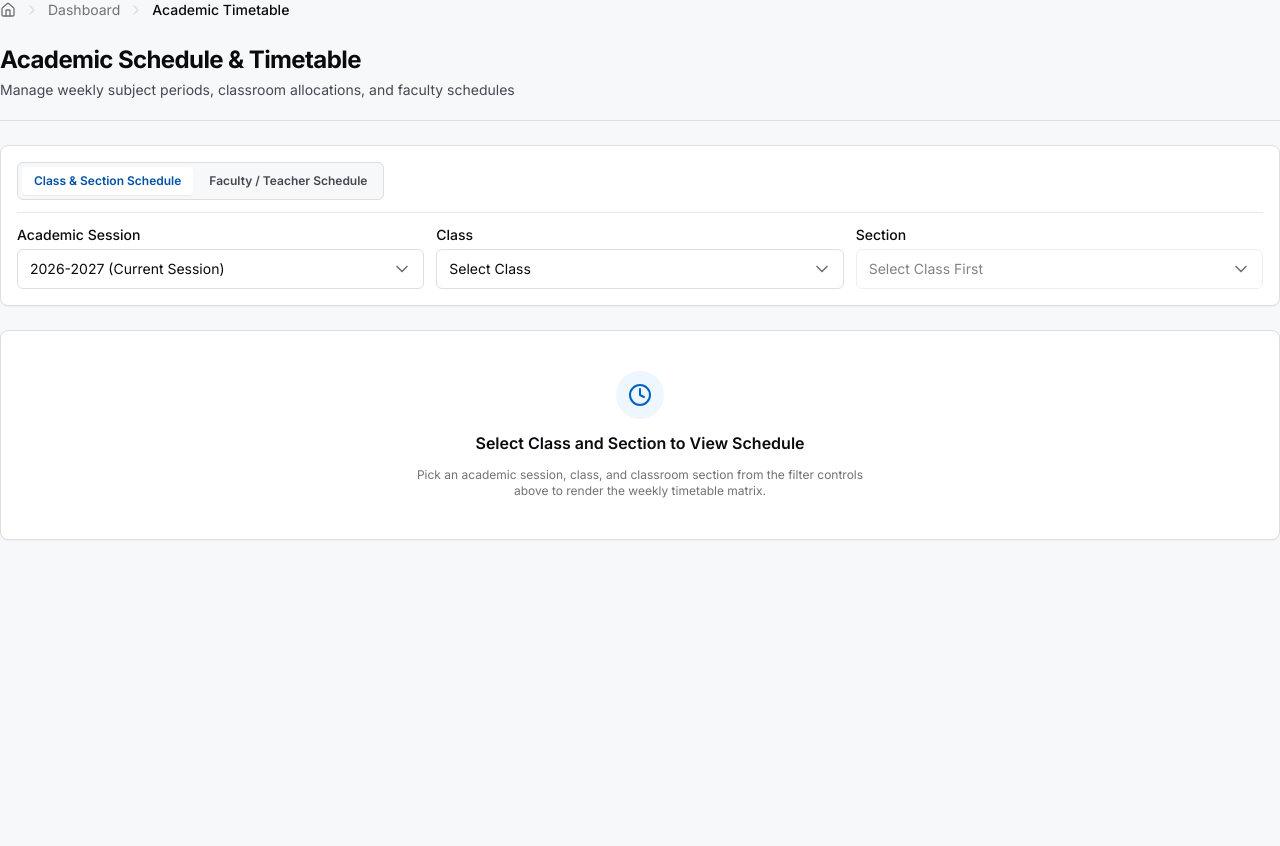
Test: TimetablePage › should render weekly timetable grid when class and section are selected
Note: Select Class
Select "Grade 10" in the dropdown labelled "Class" at point(640, 269), box x1=436 y1=249 x2=844 y2=289
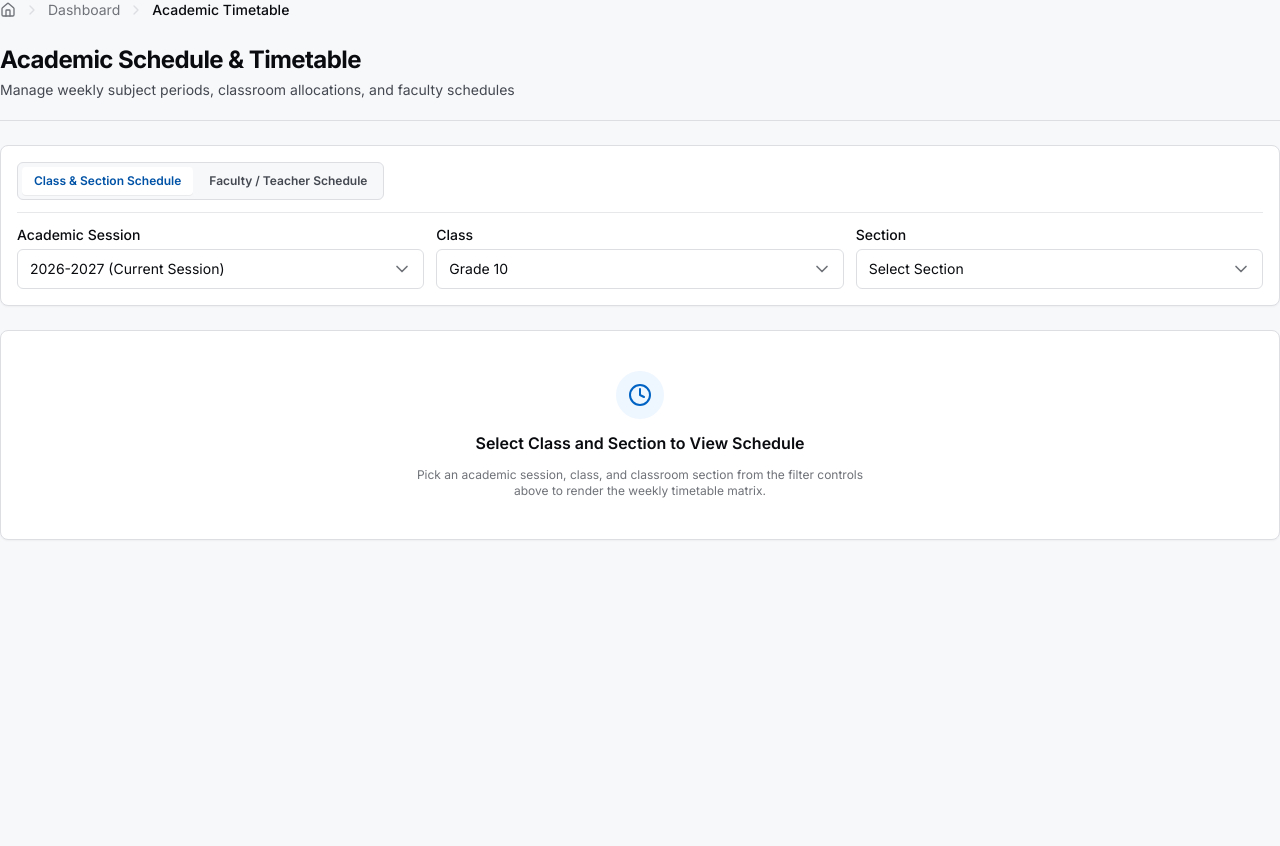
Select "Section A" in the dropdown labelled "Section" at point(1059, 269), box x1=856 y1=249 x2=1263 y2=289
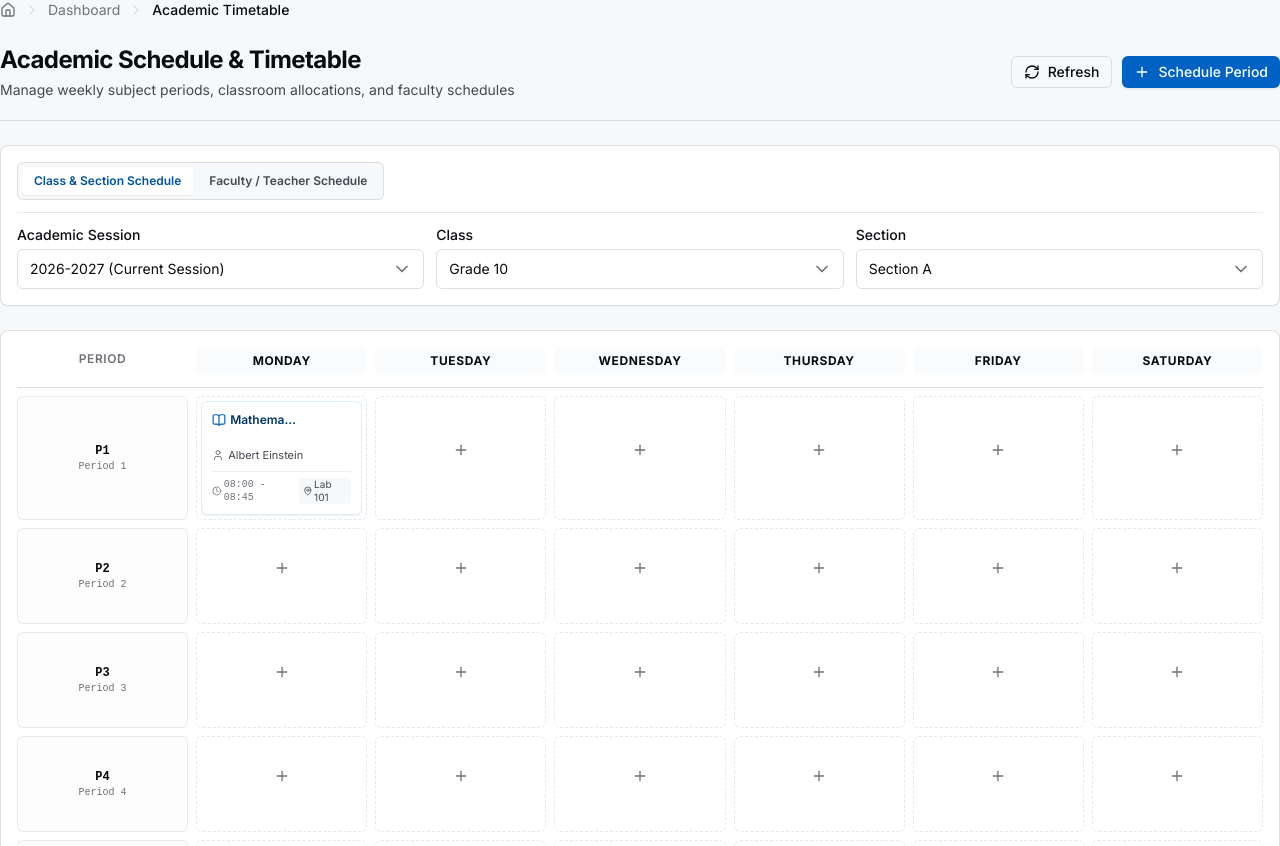
Check: the text "Mathematics" is shown, box x1=230 y1=412 x2=297 y2=428
Check: the text "Albert Einstein" is shown, box x1=228 y1=448 x2=303 y2=463
Check: the text "08:00 - 08:45" is shown, box x1=212 y1=479 x2=266 y2=503
